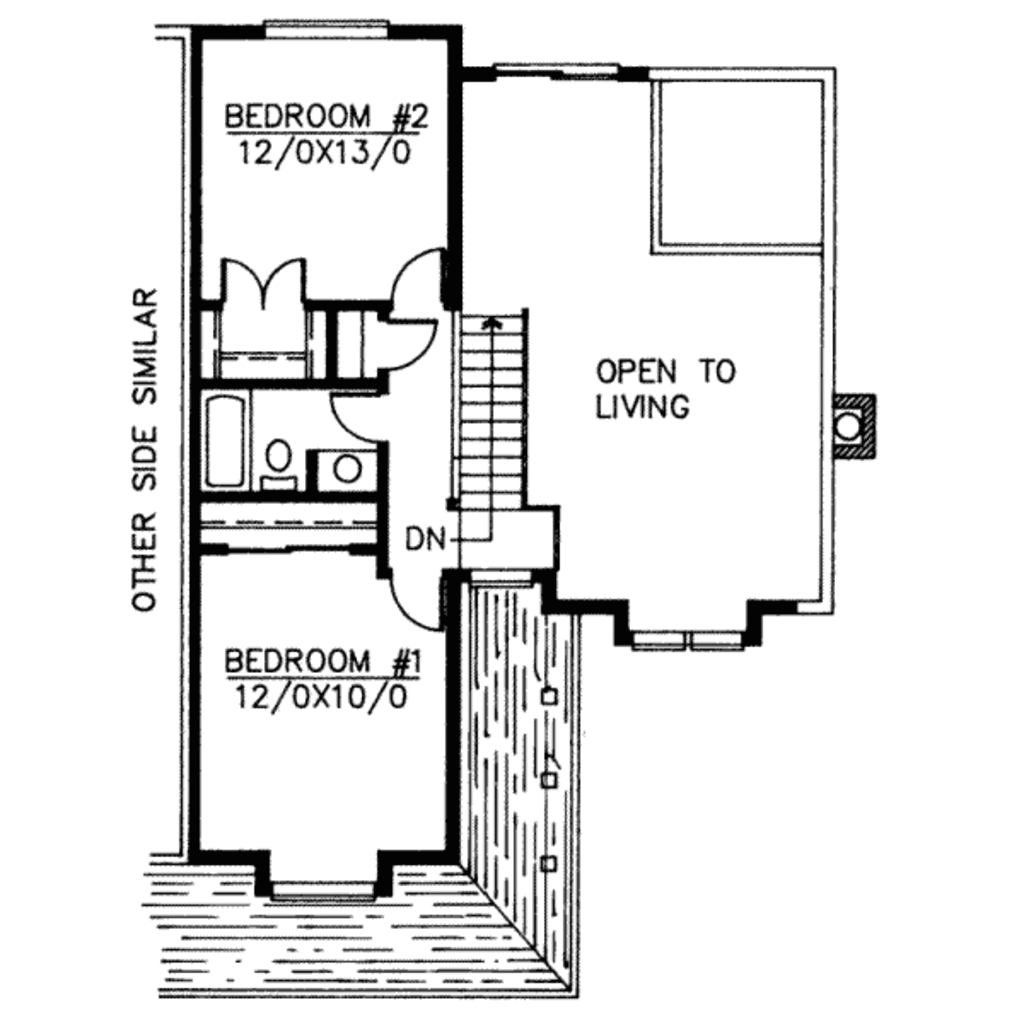door: (217, 246, 319, 316), (323, 385, 394, 452), (388, 246, 455, 308), (380, 316, 436, 382), (389, 569, 448, 630)
large_sink: (261, 435, 303, 489)
small_sink: (311, 442, 388, 500)
stairs: (450, 307, 577, 527)
tub: (205, 377, 255, 491)
window: (264, 17, 389, 46), (272, 872, 375, 905), (697, 625, 748, 663), (634, 625, 688, 655)
